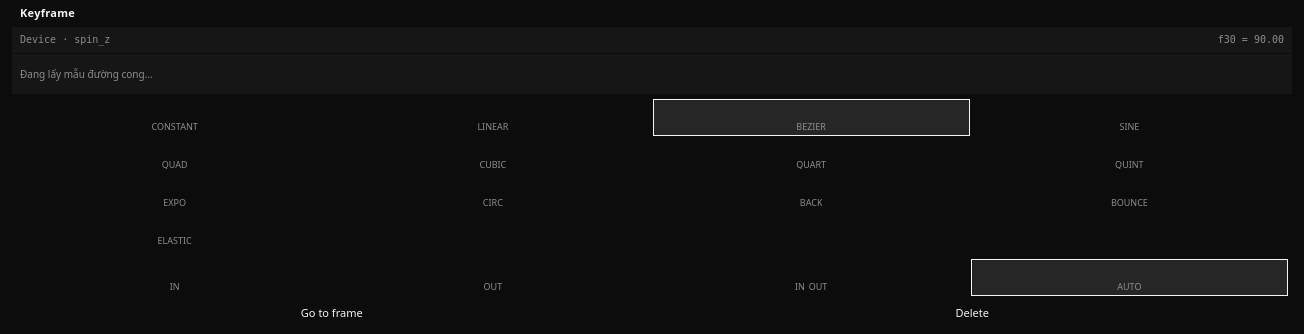
Test: inspector keyframe › khoá ô easing với LINEAR — nó không có gia tốc để mà tăng giảm
This screenshot has width=1304, height=334.
Expected: the radio button labelled "IN" is enabled, [16,259,333,296]
Click the radio button labelled "LINEAR": click(493, 118) [334,99,652,136]
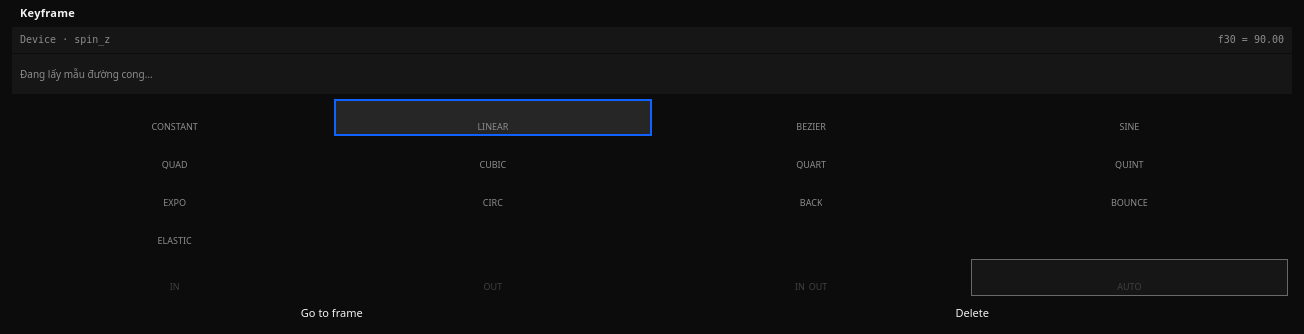
Expected: the radio button labelled "IN" is disabled, [16,259,333,296]
